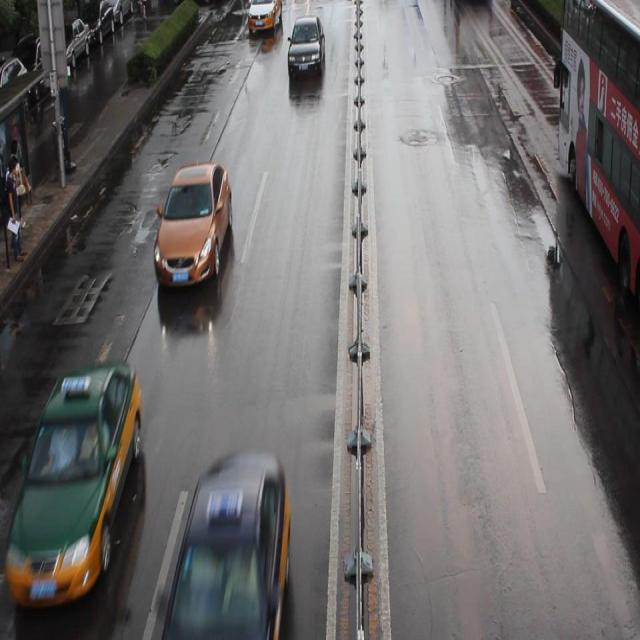car: (12, 361, 143, 608), (163, 451, 290, 640), (154, 160, 232, 287), (286, 16, 324, 76), (246, 2, 282, 34)
van: (557, 1, 640, 312)
